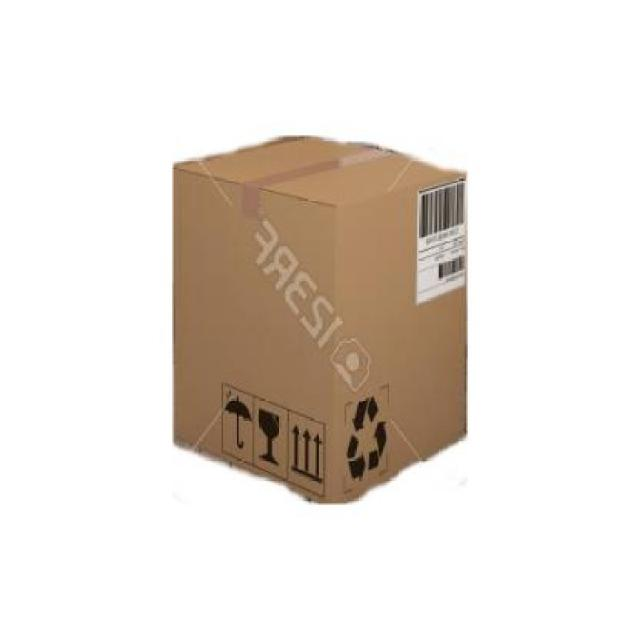cardboxes: (174, 137, 468, 501)
